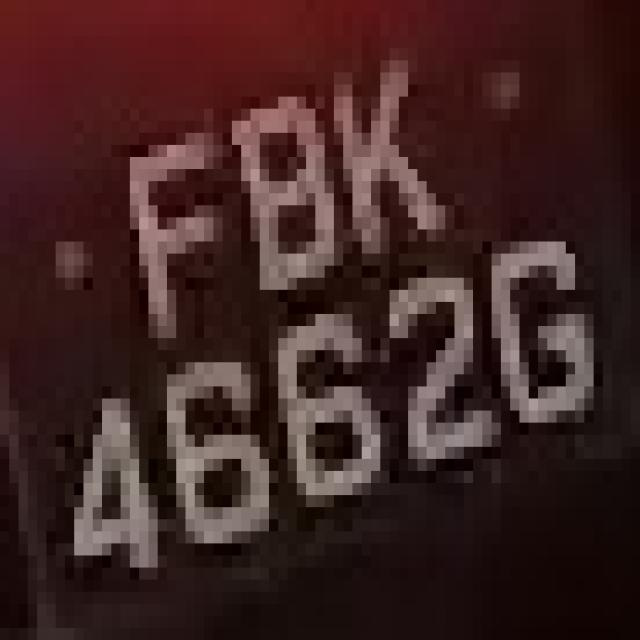2: (390, 266, 510, 519)
4: (37, 398, 186, 616)
6: (148, 350, 278, 592), (269, 302, 399, 519)
B: (223, 72, 343, 302)
F: (102, 109, 213, 374)
G: (482, 193, 603, 447)
K: (324, 36, 454, 290)
